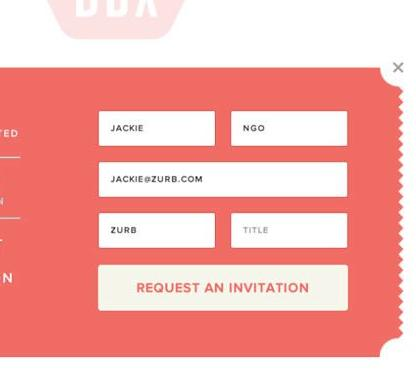button: (97, 264, 349, 312)
field: (98, 162, 348, 198), (98, 110, 216, 147), (97, 212, 216, 248), (231, 212, 347, 248), (230, 111, 348, 146)
